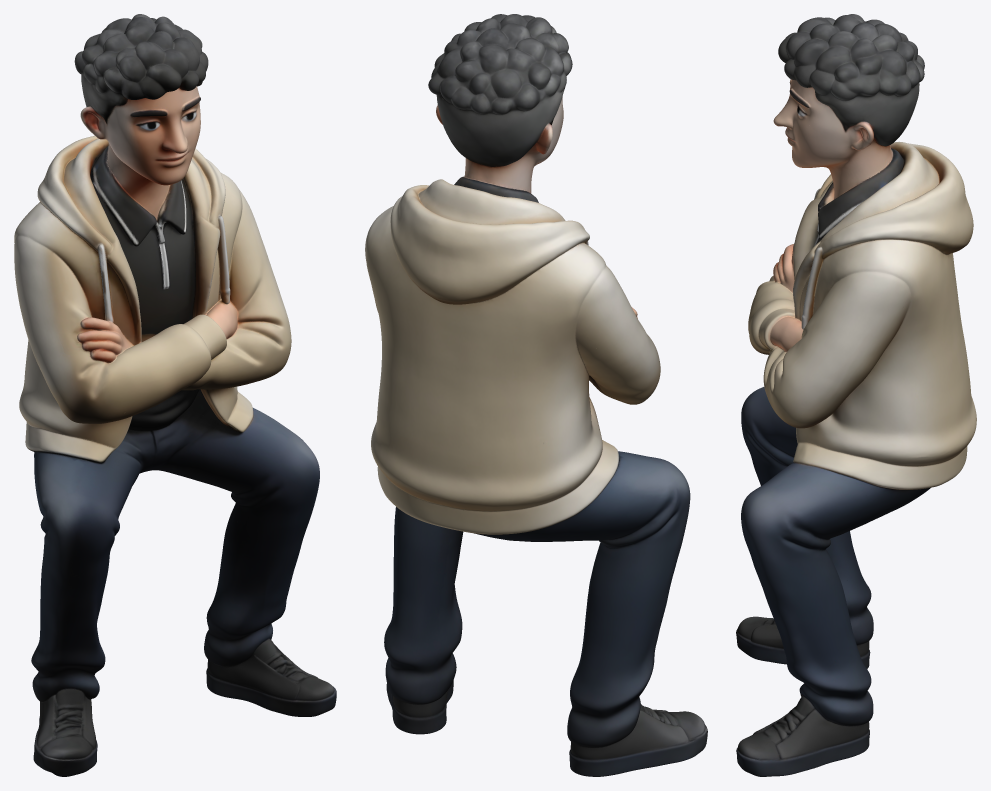
The model's file is FarrelUnity.fbx.
3 views of the same model, side by side, from view 1: azimuth 30°, elevation 25°; view 2: azimuth 150°, elevation 25°; view 3: azimuth 270°, elevation 25° (orthographic). The views are drawn at different scales.
Parts seen in each view (by area): view 1: tripo_node_a8ea25b2; view 2: tripo_node_a8ea25b2; view 3: tripo_node_a8ea25b2.
Boxes of the visible parts, box(x1,y1,x2,y2) form: tripo_node_a8ea25b2: box(14, 14, 336, 776); tripo_node_a8ea25b2: box(365, 14, 707, 776); tripo_node_a8ea25b2: box(736, 14, 976, 776).
Size of the model in its own units: 0.4466 by 1 by 0.3183.
